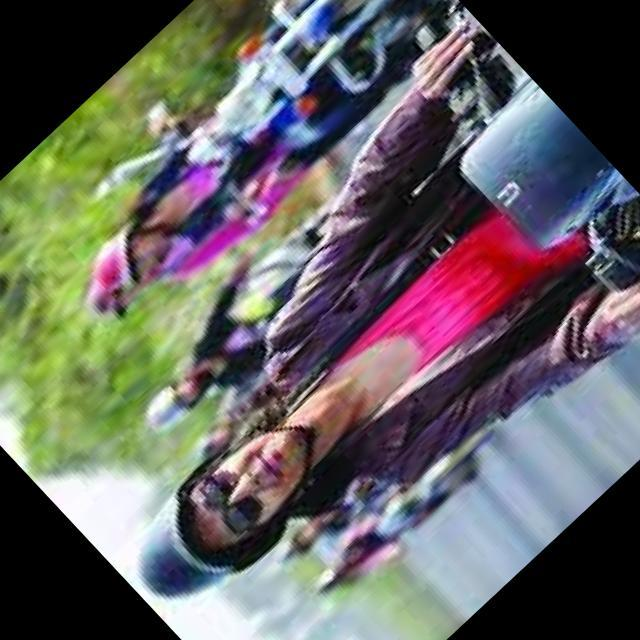WITH_HELMET: (103, 480, 258, 636), (75, 222, 164, 309)
